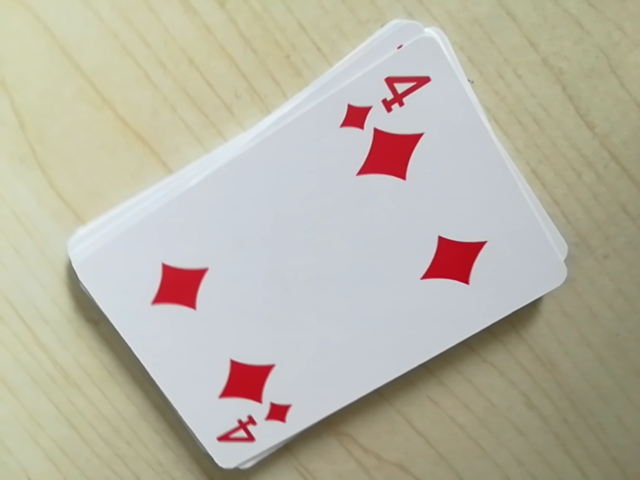fk 4: (339, 61, 432, 139), (211, 397, 299, 457)
